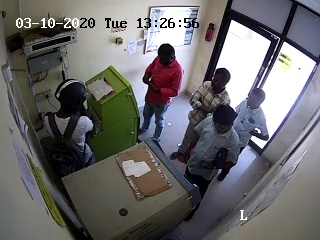helmet: (53, 78, 95, 117)
